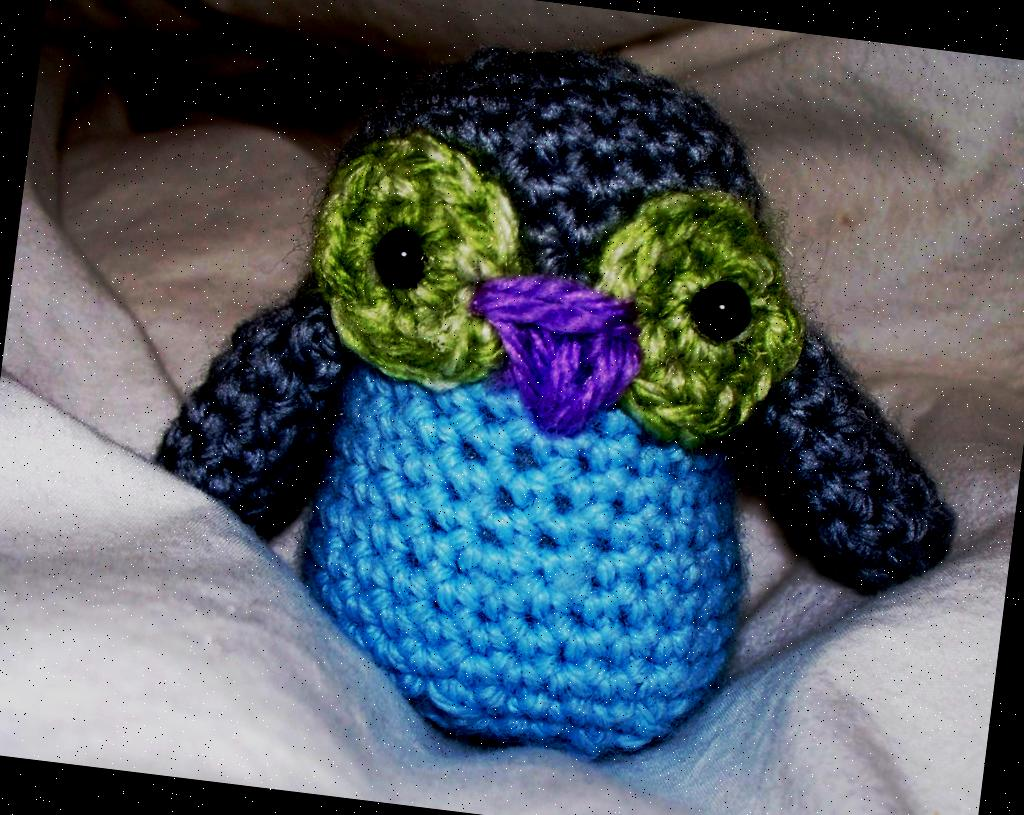Owl: (132, 8, 1005, 798)
